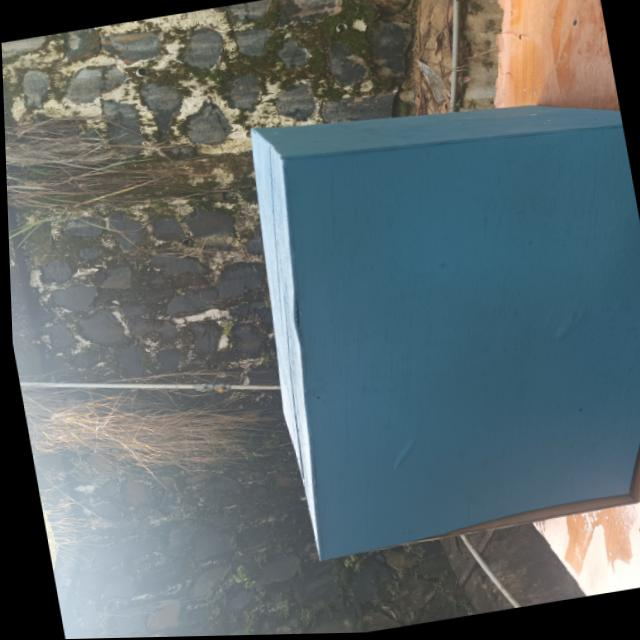blue_box: (219, 50, 640, 560)
